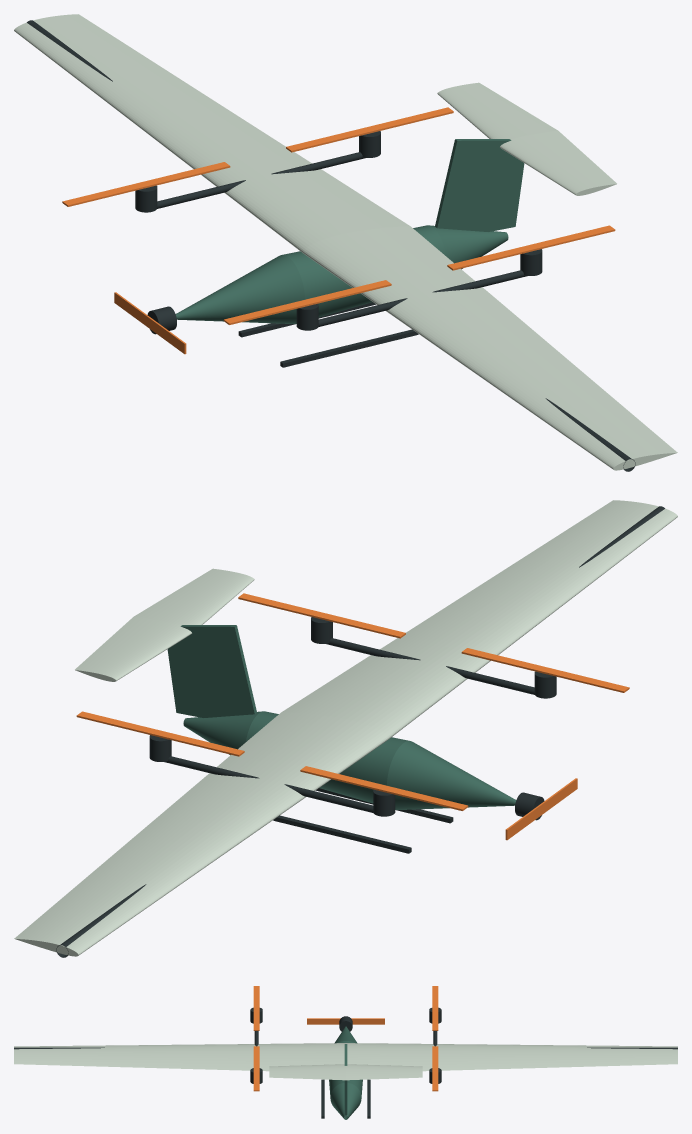
3 views of the same model, one above another, from view 1: azimuth 30°, elevation 25°; view 2: azimuth 150°, elevation 25°; view 3: azimuth 270°, elevation 25° (orthographic). The views are drawn at different scales.
Parts seen in each view (by area): view 1: wing-1, wing1, fuselage, fin, tail-1, tail1, boom-1, prop_-1_700.0, boom1, prop_1_140.0, prop_-1_140.0, prop_1_700.0 (+3 smaller); view 2: wing1, wing-1, fuselage, fin, tail1, tail-1, boom1, boom-1, prop_1_700.0, prop_-1_140.0, prop_-1_700.0, prop_1_140.0 (+3 smaller); view 3: wing-1, wing1, fuselage, tail-1, tail1, cruise_prop, wing_spar, prop_-1_700.0, prop_1_700.0, prop_-1_140.0, prop_1_140.0, fin.
Part boxes in pixels (<box>): wing-1: <box>303,226,677,470</box>; wing1: <box>14,14,409,252</box>; fuselage: <box>175,225,508,324</box>; fin: <box>435,139,524,231</box>; tail-1: <box>500,130,616,195</box>; tail1: <box>437,82,557,139</box>; boom-1: <box>318,270,527,326</box>; prop_-1_700.0: <box>447,225,615,270</box>; boom1: <box>157,152,366,208</box>; prop_1_140.0: <box>62,162,230,206</box>; prop_-1_140.0: <box>223,280,391,324</box>; prop_1_700.0: <box>286,107,453,152</box>; wing1: <box>14,712,388,956</box>; wing-1: <box>282,500,677,738</box>; fuselage: <box>183,711,516,810</box>; fin: <box>167,625,256,717</box>; tail1: <box>75,616,191,681</box>; tail-1: <box>134,568,254,625</box>; boom1: <box>164,756,373,812</box>; boom-1: <box>325,638,534,694</box>; prop_1_700.0: <box>76,711,244,756</box>; prop_-1_140.0: <box>461,648,629,692</box>; prop_-1_700.0: <box>238,593,405,638</box>; prop_1_140.0: <box>300,766,468,810</box>; wing-1: <box>14,1043,345,1071</box>; wing1: <box>346,1043,677,1071</box>; fuselage: <box>329,1026,362,1119</box>; tail-1: <box>269,1064,345,1080</box>; tail1: <box>346,1064,422,1080</box>; cruise_prop: <box>307,1018,384,1024</box>; wing_spar: <box>14,1047,677,1049</box>; prop_-1_700.0: <box>253,1046,259,1091</box>; prop_1_700.0: <box>432,1046,438,1091</box>; prop_-1_140.0: <box>253,986,259,1030</box>; prop_1_140.0: <box>432,986,438,1030</box>; fin: <box>344,1044,347,1115</box>.
Bounding box in the file's own units: 1033 × 393 × 2600.
